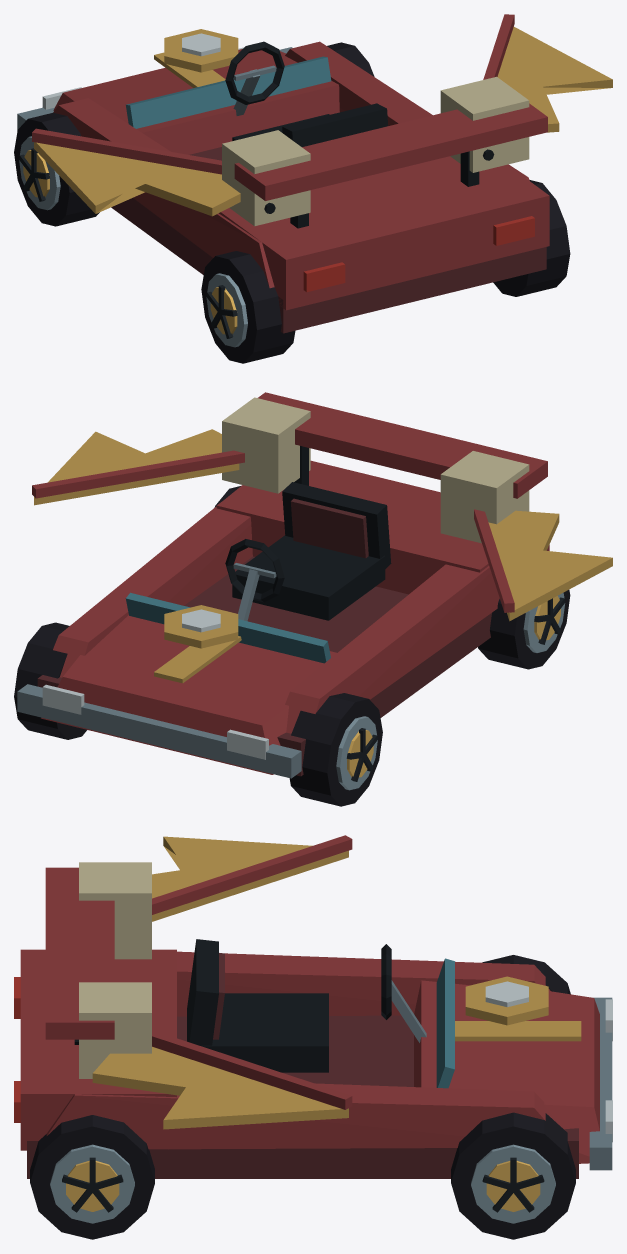
Rendered from kart.glb.
The picture shows the model from 3 angles, top to bottom: view 1: azimuth 30°, elevation 25°; view 2: azimuth 150°, elevation 25°; view 3: azimuth 270°, elevation 25°; orthographic projection. The views are drawn at different scales.
Parts seen in each view (by area): view 1: identity-sports-car-sports-car-road-car-body, identity-sports-car-motif-dragon-wings, identity-sports-car-motif-dice, wheel-rear-left, identity-sports-car-driver-cockpit, wheel-front-left, wheel-rear-right, identity-sports-car-motif-badge, wheel-front-right; view 2: identity-sports-car-sports-car-road-car-body, identity-sports-car-motif-dragon-wings, identity-sports-car-driver-cockpit, identity-sports-car-motif-dice, wheel-front-left, wheel-rear-left, wheel-front-right, identity-sports-car-motif-badge; view 3: identity-sports-car-sports-car-road-car-body, identity-sports-car-motif-dragon-wings, identity-sports-car-driver-cockpit, wheel-front-right, wheel-rear-right, identity-sports-car-motif-dice, identity-sports-car-motif-badge, wheel-front-left.
Part boxes in pixels (left/top/right/bottom): identity-sports-car-sports-car-road-car-body: left=17, top=41, right=549, bottom=333; identity-sports-car-motif-dragon-wings: left=32, top=14, right=612, bottom=216; identity-sports-car-motif-dice: left=222, top=76, right=529, bottom=226; wheel-rear-left: left=201, top=251, right=295, bottom=363; identity-sports-car-driver-cockpit: left=225, top=41, right=388, bottom=146; wheel-front-left: left=14, top=112, right=99, bottom=226; wheel-rear-right: left=493, top=180, right=570, bottom=296; identity-sports-car-motif-badge: left=164, top=29, right=238, bottom=72; wheel-front-right: left=327, top=42, right=374, bottom=76; identity-sports-car-sports-car-road-car-body: left=17, top=392, right=549, bottom=778; identity-sports-car-motif-dragon-wings: left=32, top=429, right=612, bottom=621; identity-sports-car-driver-cockpit: left=225, top=482, right=391, bottom=621; identity-sports-car-motif-dice: left=222, top=397, right=529, bottom=543; wheel-front-left: left=289, top=693, right=382, bottom=806; wheel-rear-left: left=478, top=590, right=570, bottom=669; wheel-front-right: left=14, top=622, right=86, bottom=739; identity-sports-car-motif-badge: left=164, top=605, right=238, bottom=648; identity-sports-car-sports-car-road-car-body: left=14, top=867, right=612, bottom=1178; identity-sports-car-motif-dragon-wings: left=92, top=835, right=352, bottom=1129; identity-sports-car-driver-cockpit: left=187, top=939, right=426, bottom=1072; wheel-front-right: left=451, top=1112, right=575, bottom=1239; wheel-rear-right: left=30, top=1115, right=154, bottom=1239; identity-sports-car-motif-dice: left=74, top=862, right=151, bottom=1078; identity-sports-car-motif-badge: left=465, top=976, right=548, bottom=1025; wheel-front-left: left=482, top=955, right=570, bottom=994.
Size of the model in its own units: 3.22 by 1.14 by 2.88.
